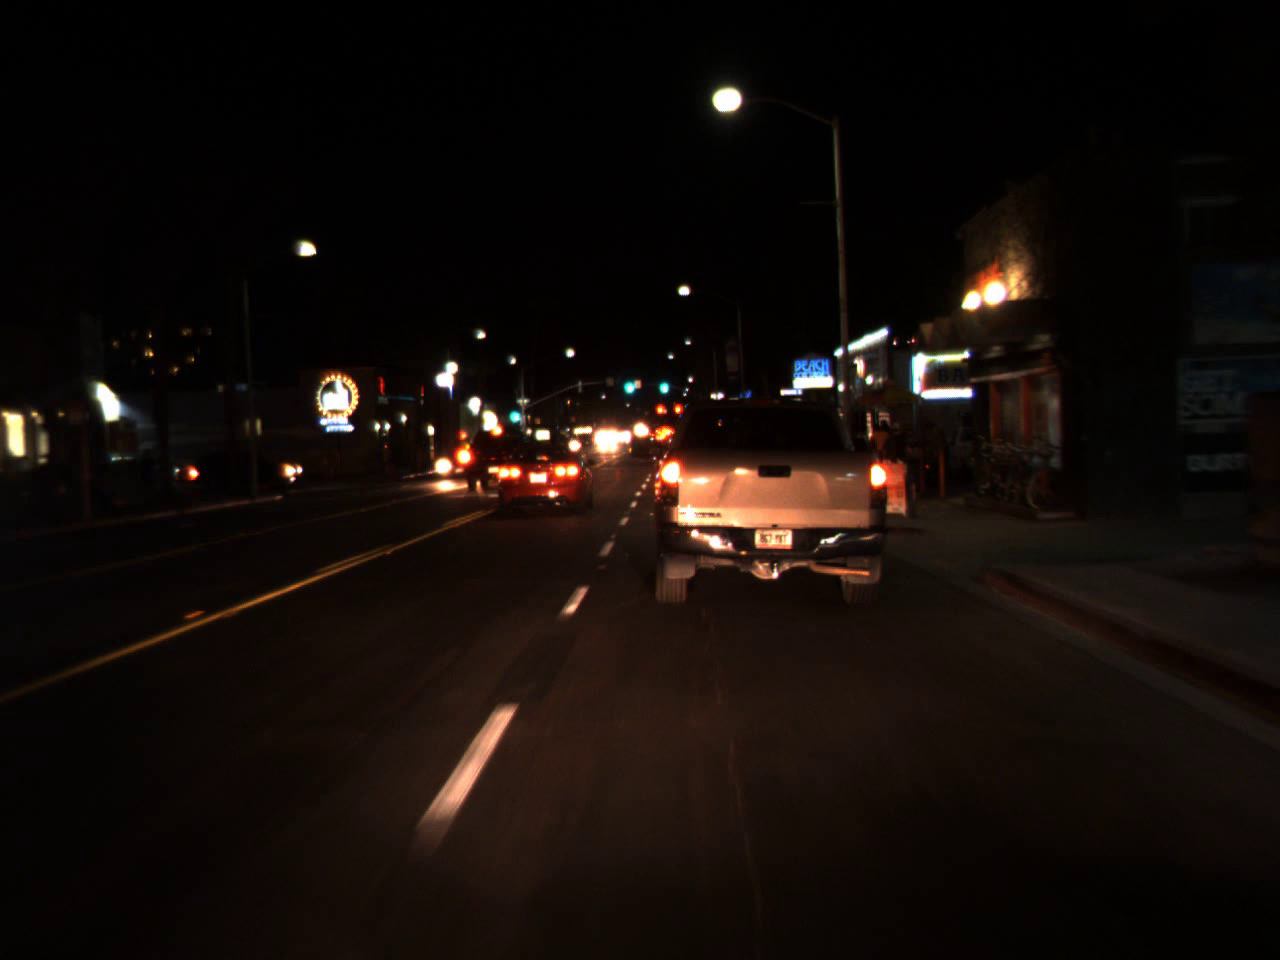go: (619, 368, 638, 398), (506, 397, 522, 427), (656, 370, 670, 397)
